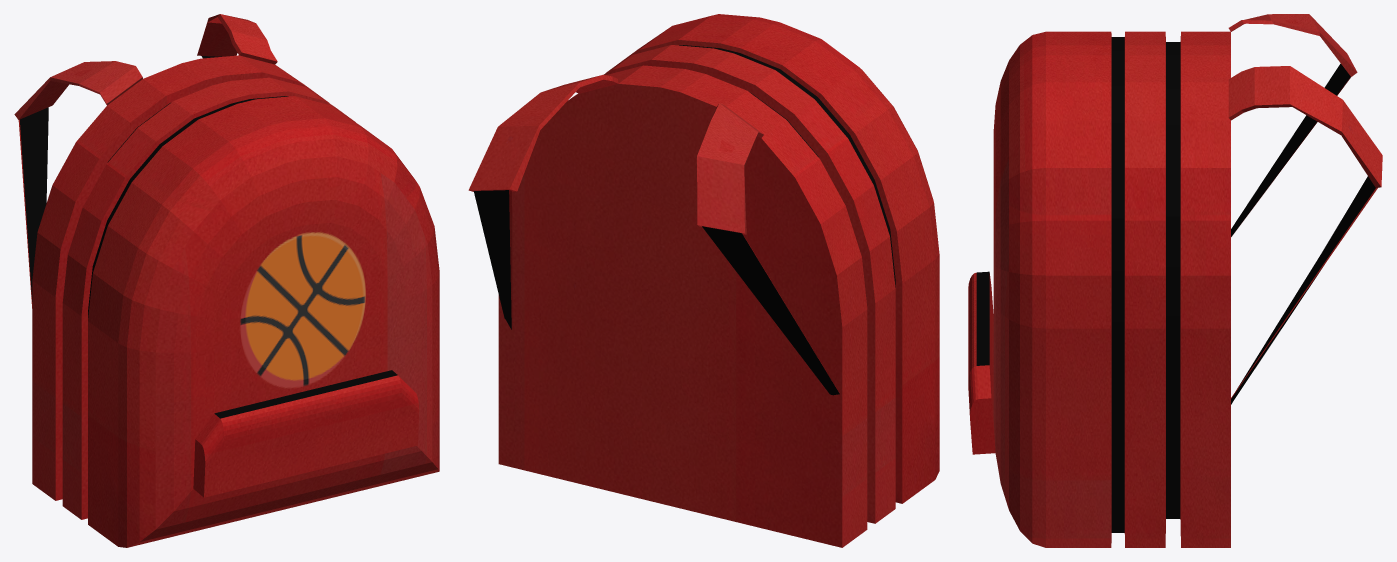
File: bag.fbx
3 views of the same model, side by side, from view 1: azimuth 30°, elevation 25°; view 2: azimuth 150°, elevation 25°; view 3: azimuth 270°, elevation 25° (orthographic). The views are drawn at different scales.
Visible parts, largest first — view 1: Cube; view 2: Cube; view 3: Cube.
Boxes of the visible parts, left/top/right/bottom form: Cube: left=14, top=14, right=439, bottom=547; Cube: left=468, top=14, right=939, bottom=547; Cube: left=968, top=14, right=1382, bottom=547.
Size of the model in its own units: 30.6 by 36.61 by 32.1.
